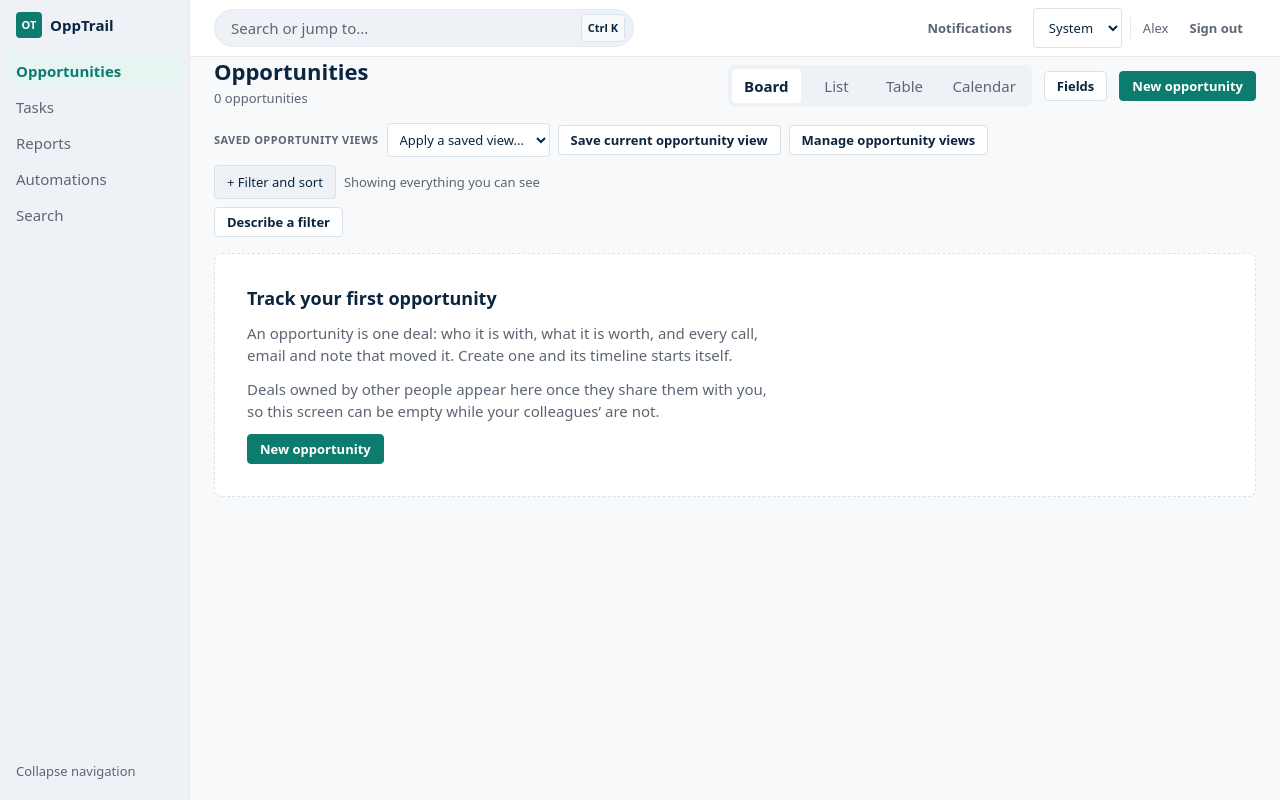
the dashboard › surfaces a rejected create instead of clearing the form
Check: the heading "Opportunities" is shown, box [214,57,368,85]
Step 1. Click the button "New opportunity" in the row of "0 opportunities" → (1188, 86), box [1119,71,1256,101]
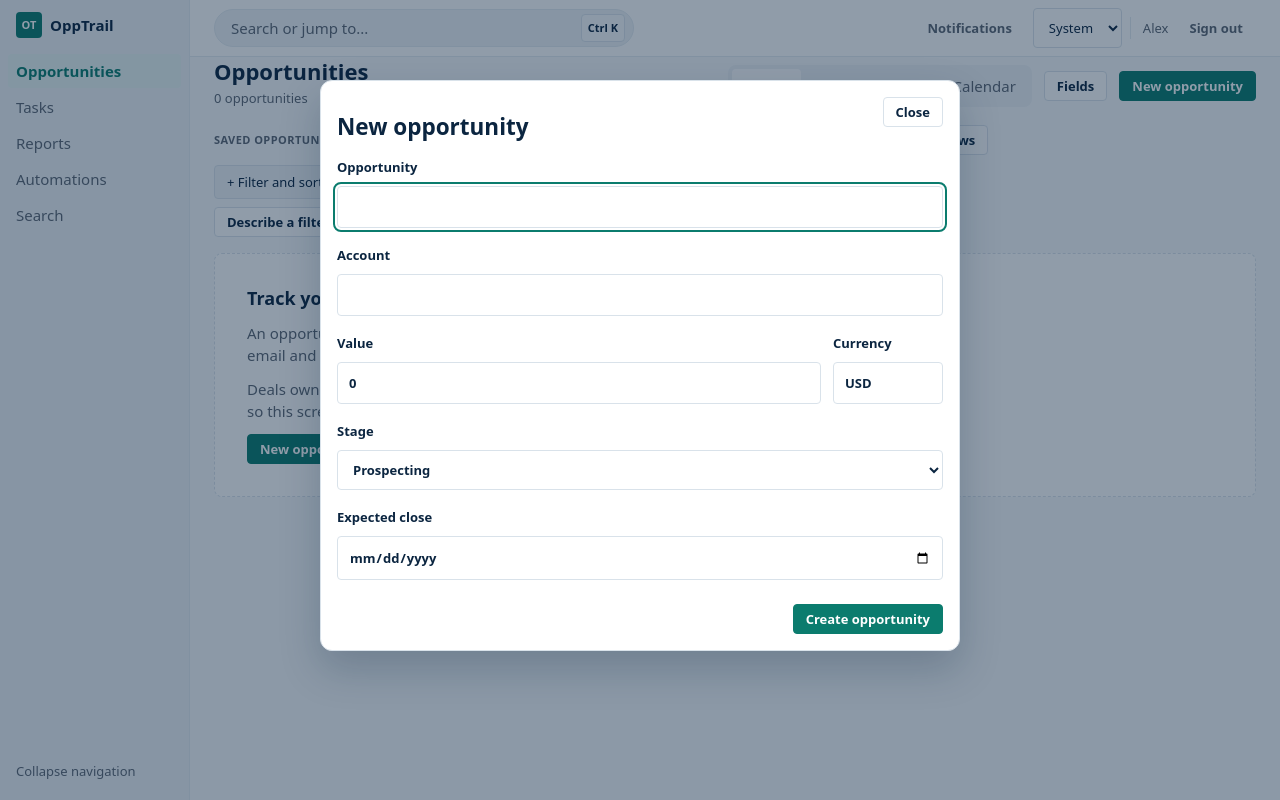
Step 2. Type "Bad stage" into the field labelled "Opportunity" → (640, 207), box [337,186,943,228]
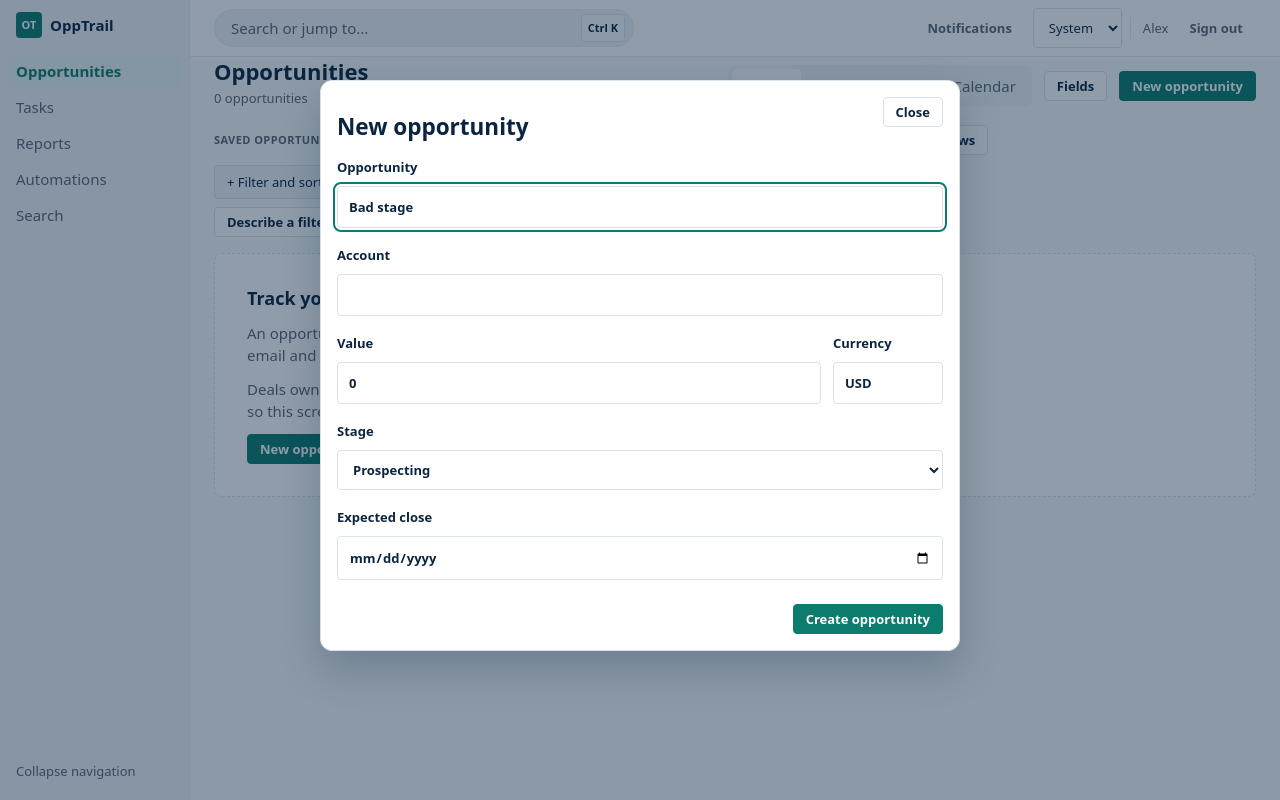
Step 3. Type "Acme" into the field labelled "Account" → (640, 295), box [337,274,943,316]
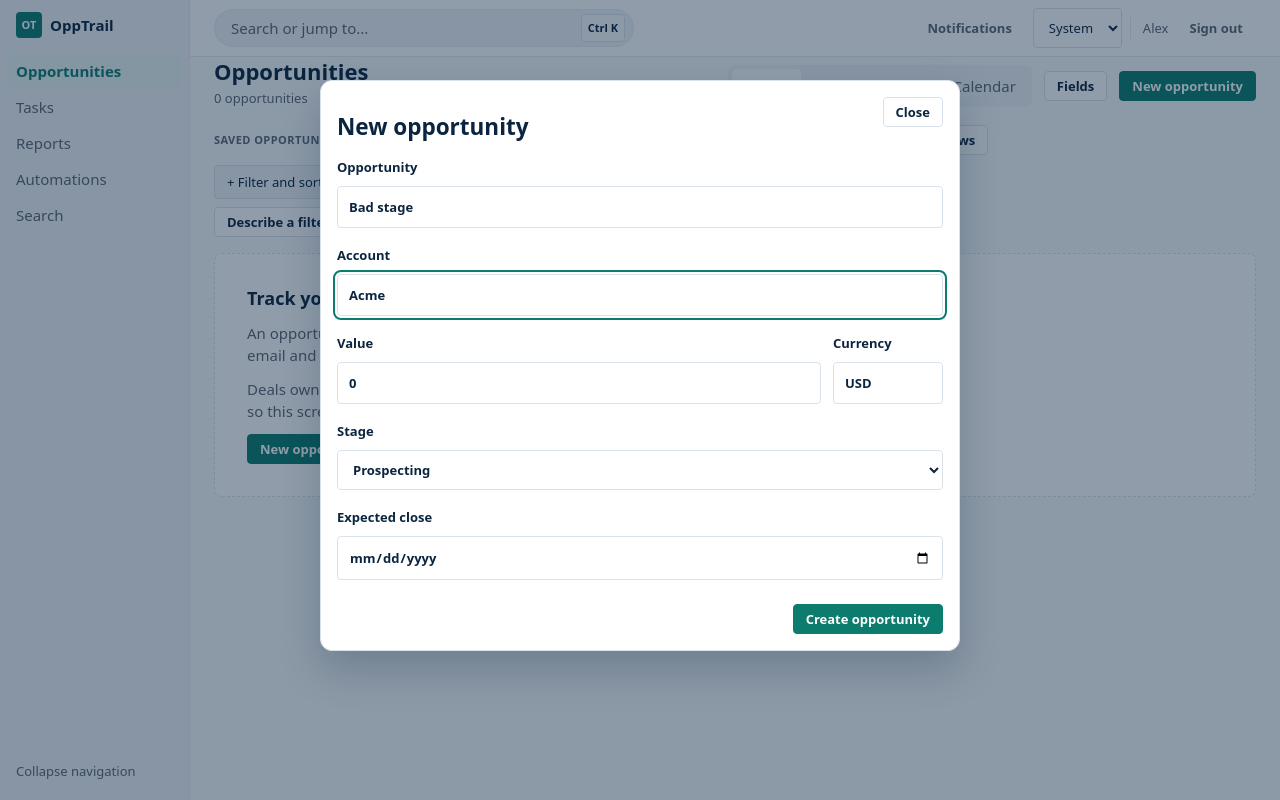
Step 4. Click the button "Create opportunity" → (868, 619), box [793,604,943,634]
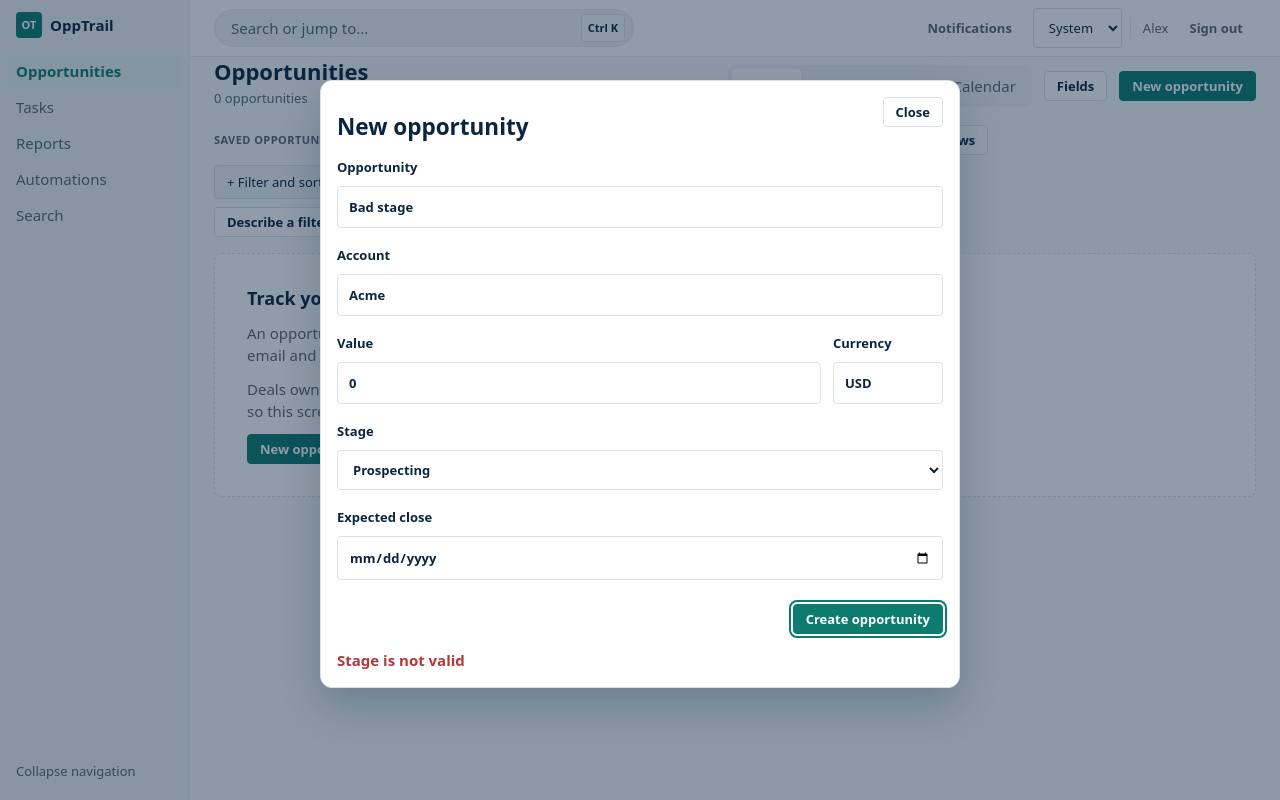
Check: the text "Stage is not valid" is shown, box [337,650,465,670]
